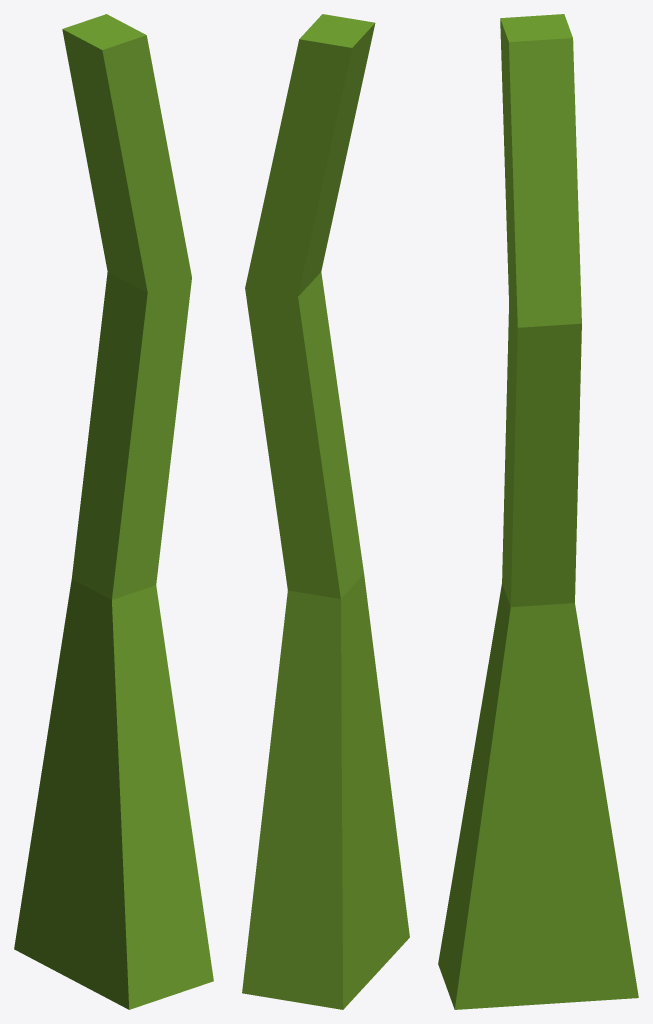
The model's file is Natures2g1-green.fbx.
3 renders of one model, left to right at view 1: azimuth 30°, elevation 25°; view 2: azimuth 150°, elevation 25°; view 3: azimuth 270°, elevation 25°, orthographic.
Parts seen in each view (by area): view 1: g1-green; view 2: g1-green; view 3: g1-green.
Part boxes in pixels (left/top/right/bottom): g1-green: left=14, top=14, right=213, bottom=1009; g1-green: left=242, top=14, right=409, bottom=1009; g1-green: left=438, top=14, right=638, bottom=1009.
Size of the model in its own units: 28.81 by 204 by 39.15.
